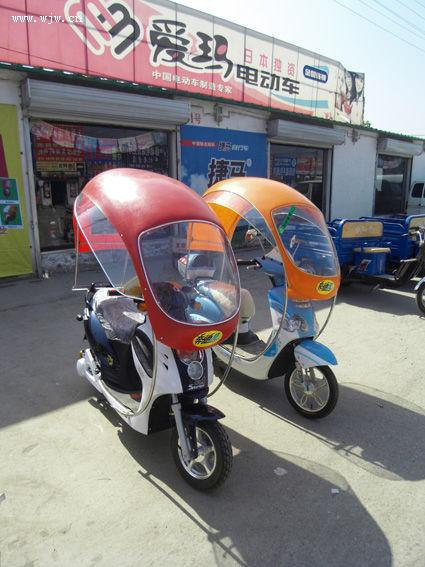non-vehicle: (72, 288, 233, 492), (184, 254, 337, 418)
